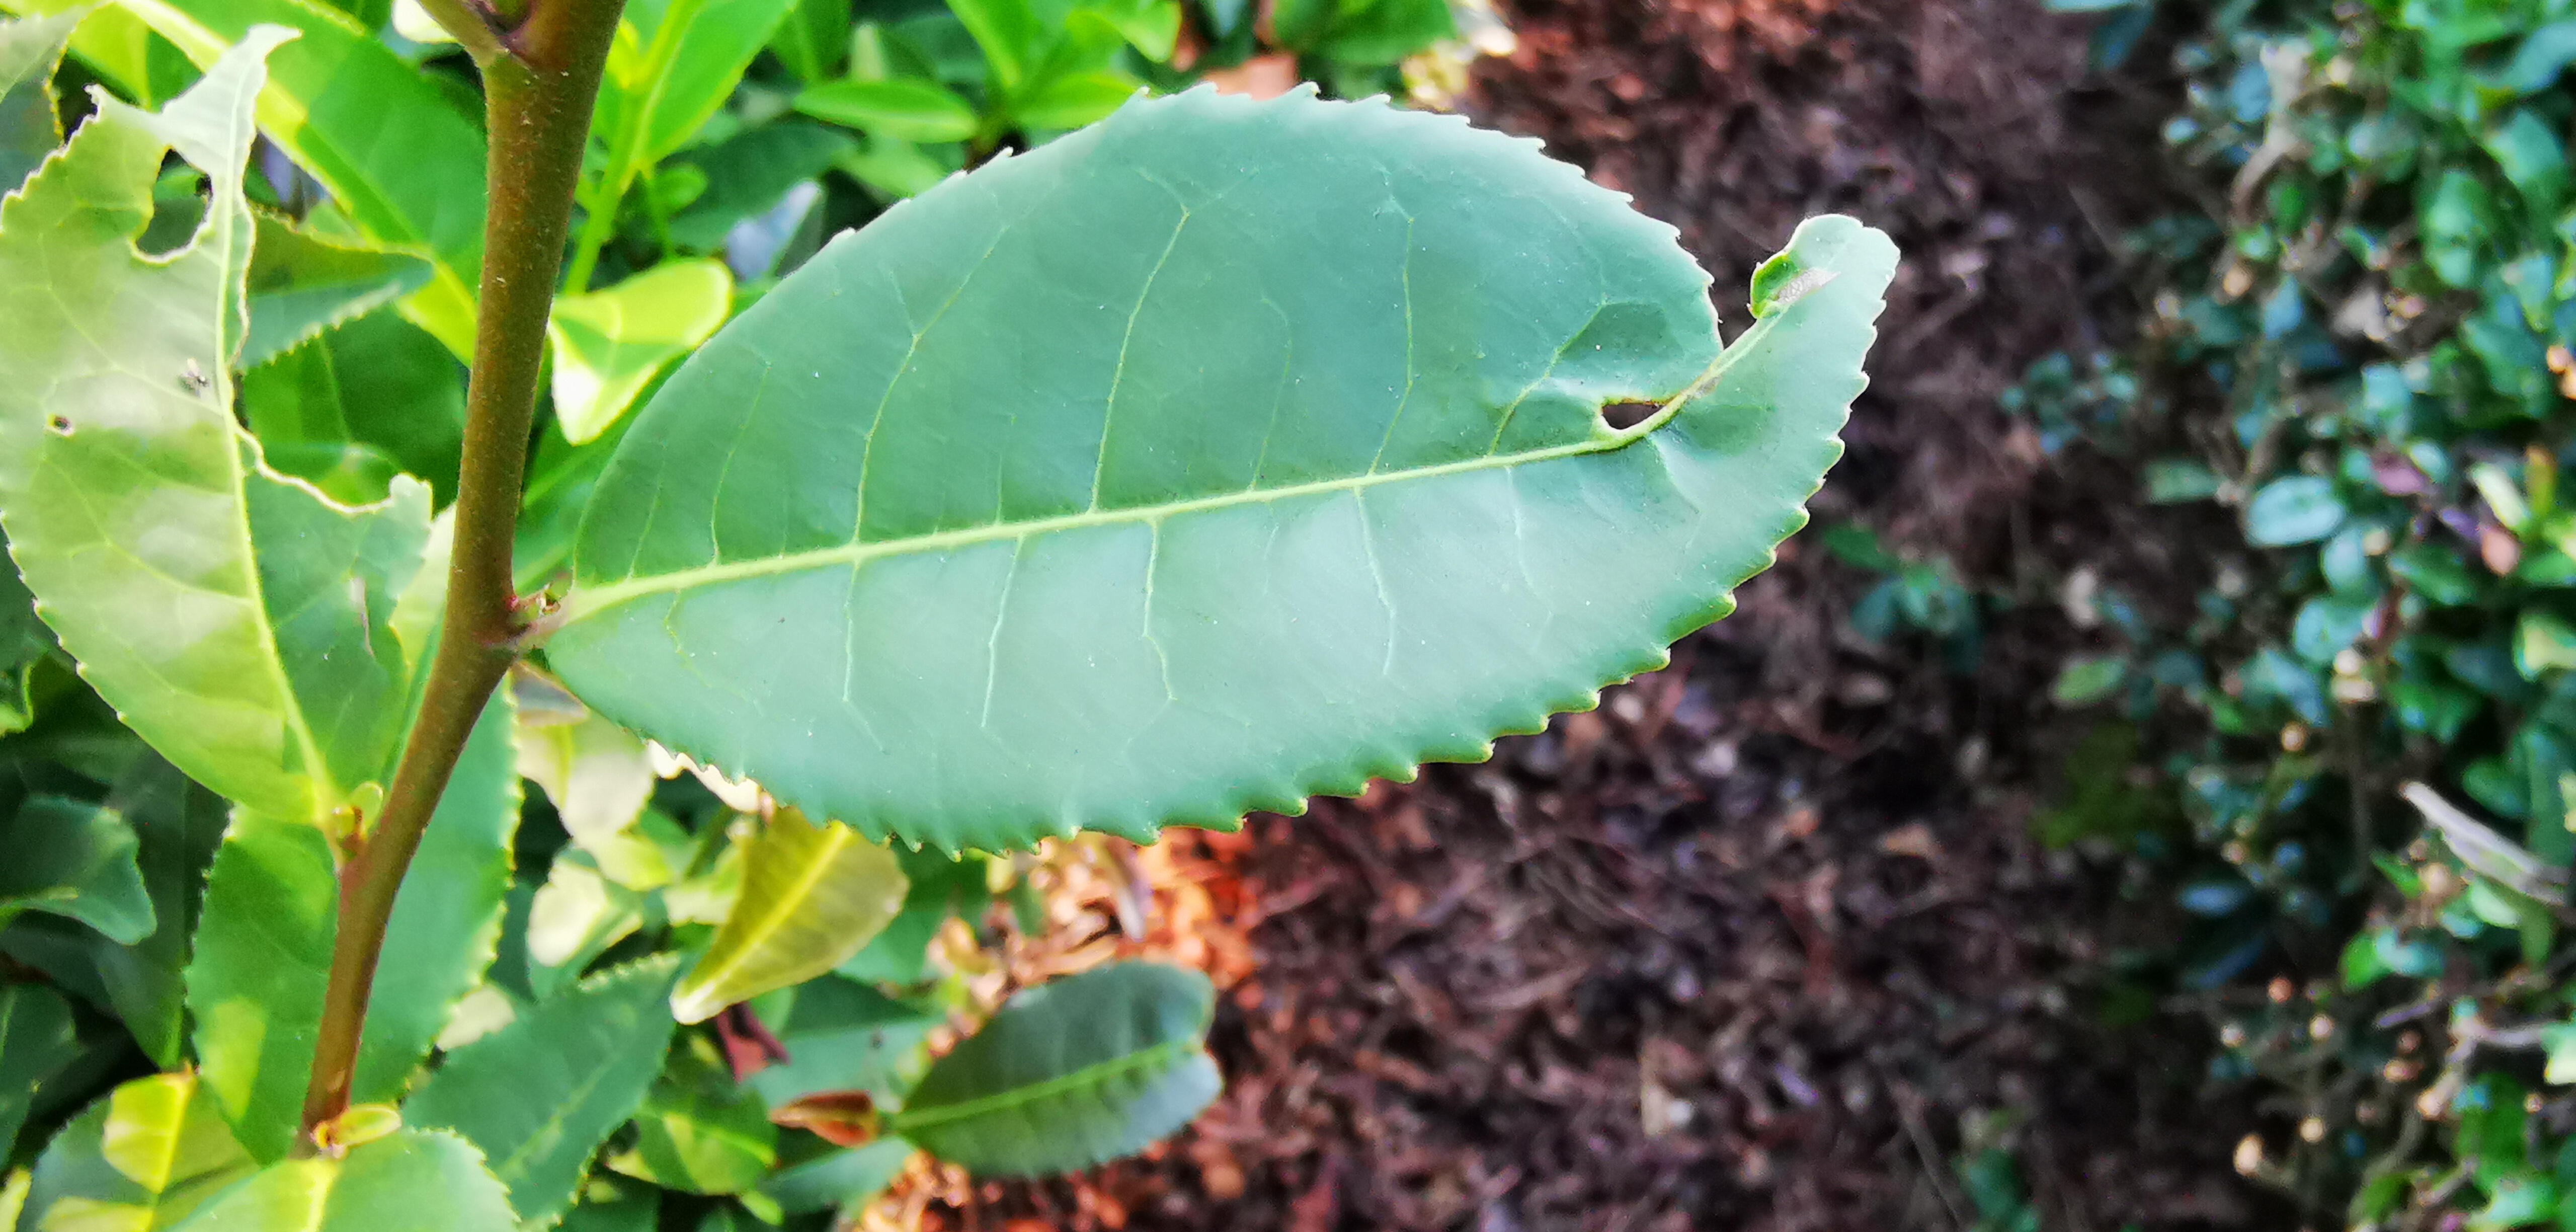chihuo_high: (2, 16, 440, 833)
chihuo_low: (544, 74, 1906, 866)
